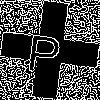P: (25, 25, 64, 74)
